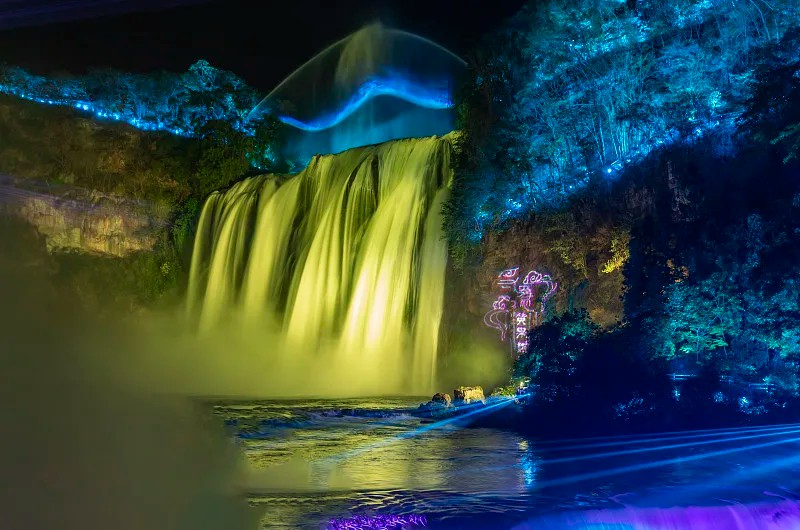Huangguoshu: (183, 133, 458, 396)
